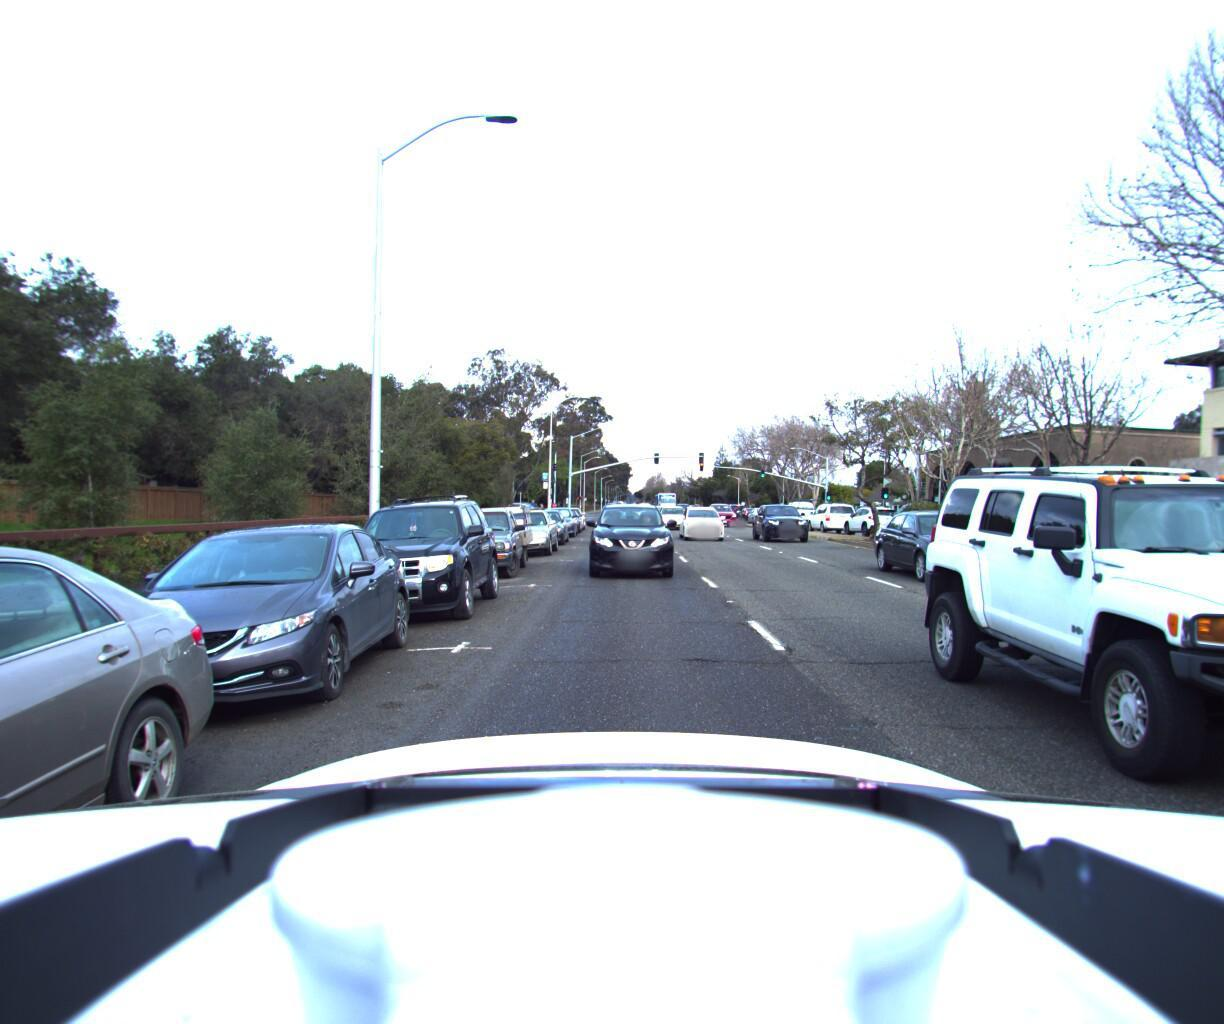car: (956, 371, 1224, 1011), (0, 531, 232, 1024), (19, 518, 415, 745), (310, 492, 499, 637), (882, 507, 1072, 600), (417, 505, 530, 584), (584, 502, 676, 583), (486, 510, 559, 561), (873, 504, 956, 546), (757, 506, 818, 547), (836, 507, 903, 544), (678, 504, 733, 544), (514, 510, 566, 550), (802, 504, 858, 539), (774, 499, 824, 534), (534, 509, 574, 542), (649, 509, 686, 537), (711, 504, 747, 528), (741, 509, 774, 528)
